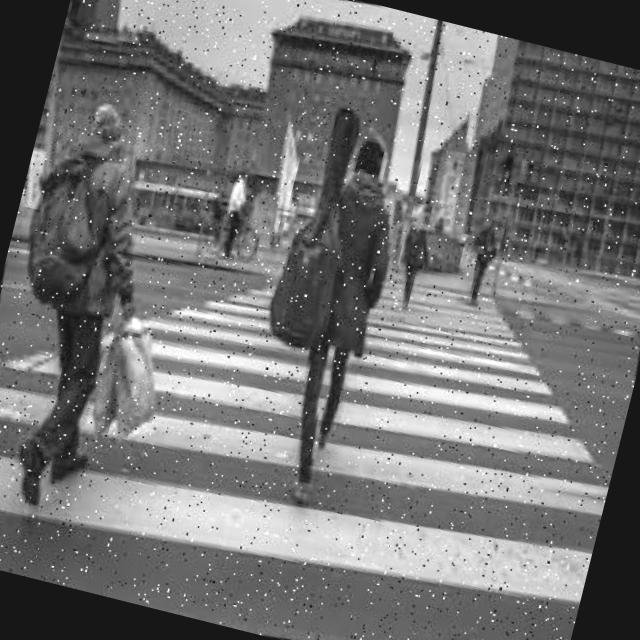Person: (0, 92, 187, 519), (245, 128, 436, 514), (385, 207, 442, 312), (456, 213, 511, 309)
